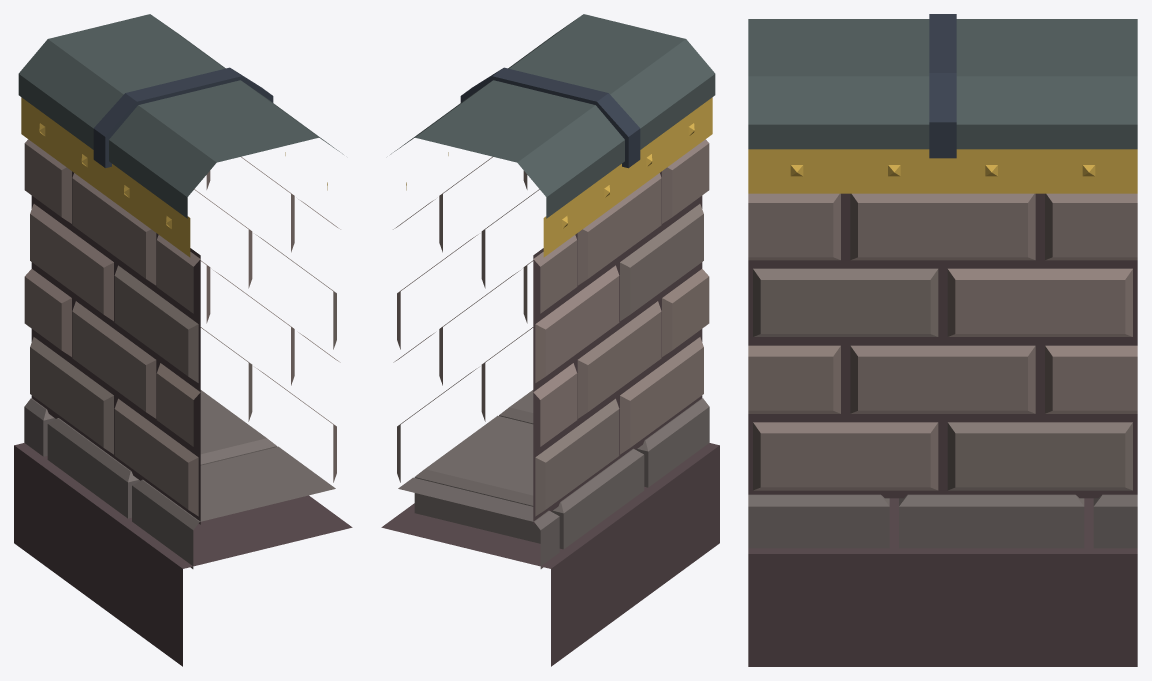
File: stone_wall_straight.glb
3 renders of one model, left to right at view 1: azimuth 30°, elevation 25°; view 2: azimuth 150°, elevation 25°; view 3: azimuth 270°, elevation 25°, orthographic. The views are drawn at different scales.
Parts seen in each view (by area): view 1: body; view 2: body; view 3: body.
Boxes of the visible parts, bbox=[...] form: body: bbox=[14, 14, 352, 666]; body: bbox=[381, 14, 719, 666]; body: bbox=[748, 14, 1137, 666].
Bounding box in the file's own units: 0.58 × 1.63 × 1.
